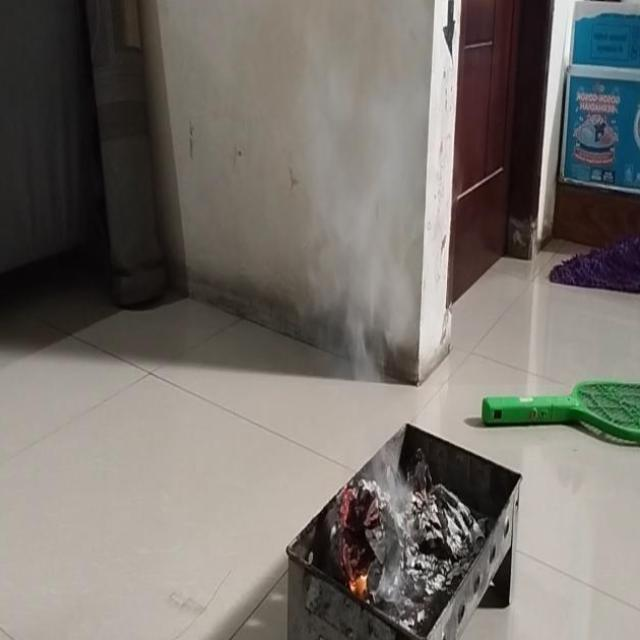fire: (299, 48, 417, 388), (373, 451, 414, 516)
